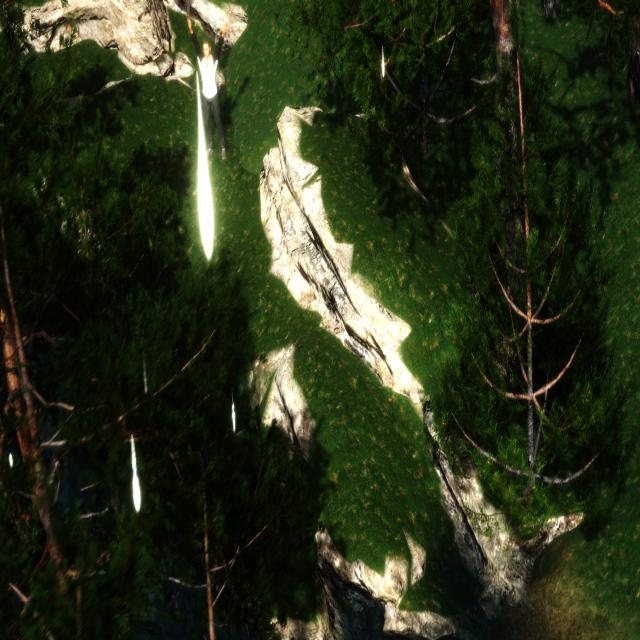Human: (187, 15, 235, 163)
